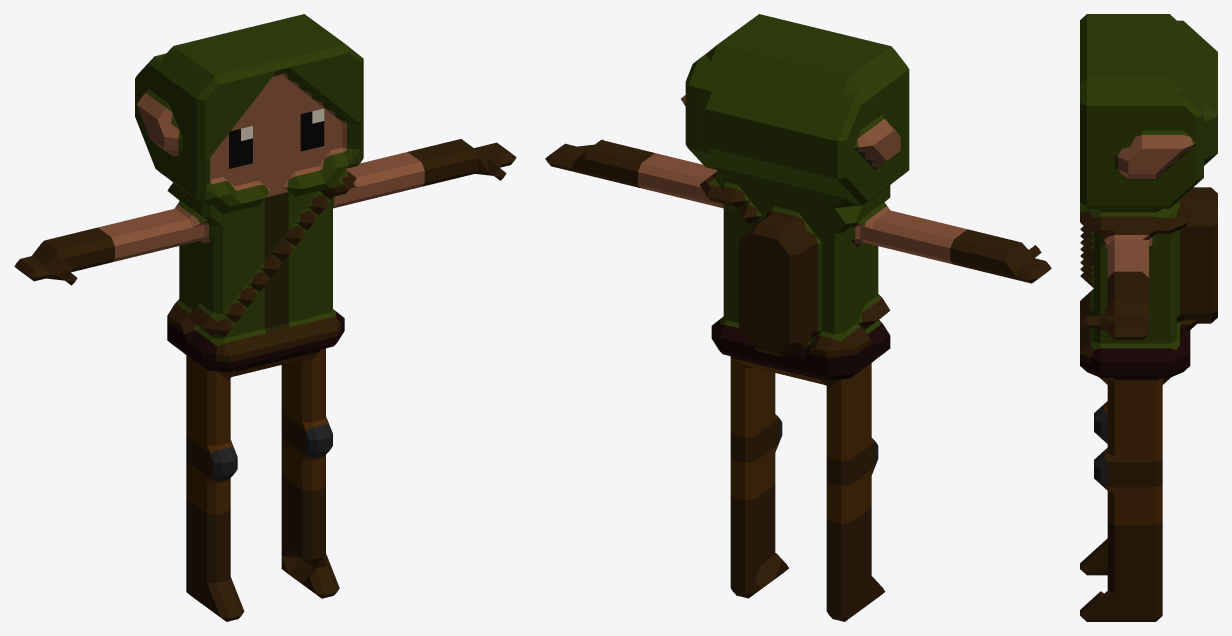
File: Soup 1.fbx
3 renders of one model, left to right at view 1: azimuth 30°, elevation 25°; view 2: azimuth 150°, elevation 25°; view 3: azimuth 270°, elevation 25°, orthographic.
Visible parts, largest first — view 1: ranger; view 2: ranger; view 3: ranger.
Boxes of the visible parts, x1,y1,x2,y2 form: ranger: [14, 14, 516, 621]; ranger: [545, 14, 1051, 621]; ranger: [1080, 14, 1217, 621].
Bounding box in the file's own units: 350 × 376 × 85.41.
